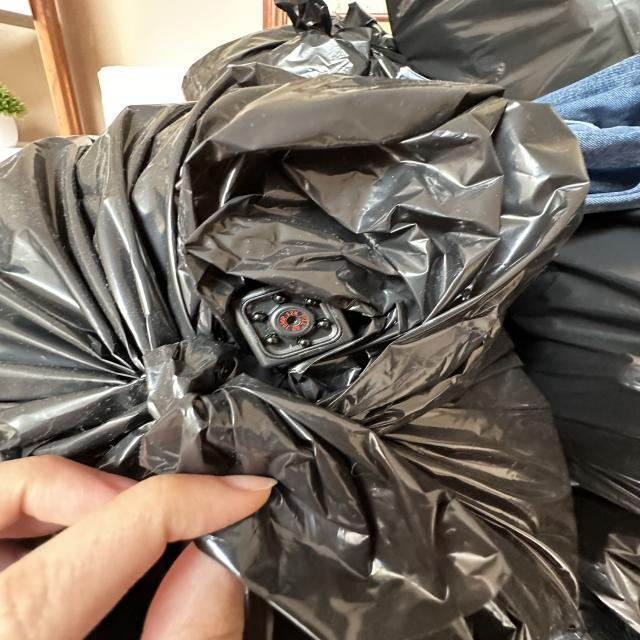hidden camera: (273, 308, 313, 334)
